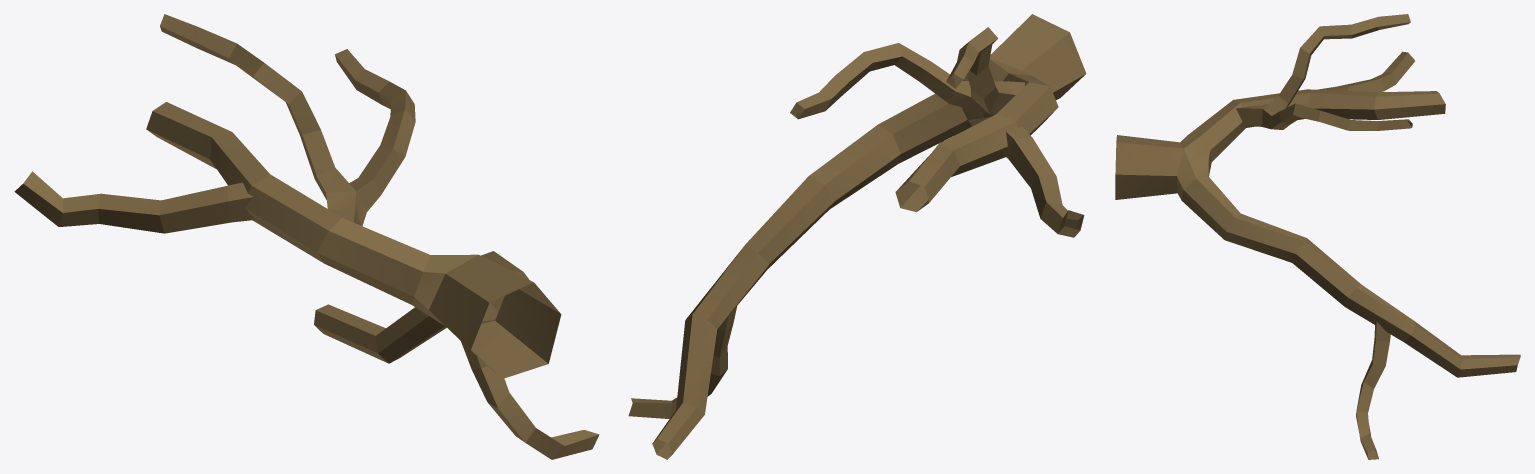
Rendered from trunk.fbx.
3 renders of one model, left to right at view 1: azimuth 30°, elevation 25°; view 2: azimuth 150°, elevation 25°; view 3: azimuth 270°, elevation 25°, orthographic. The views are drawn at different scales.
Parts seen in each view (by area): view 1: trunk; view 2: trunk; view 3: trunk.
Part boxes in pixels (x1,y1,x2,y2): trunk: (14,14,599,459); trunk: (628,14,1086,459); trunk: (1115,14,1520,459).
Bounding box in the file's own units: 287 × 254 × 288.
